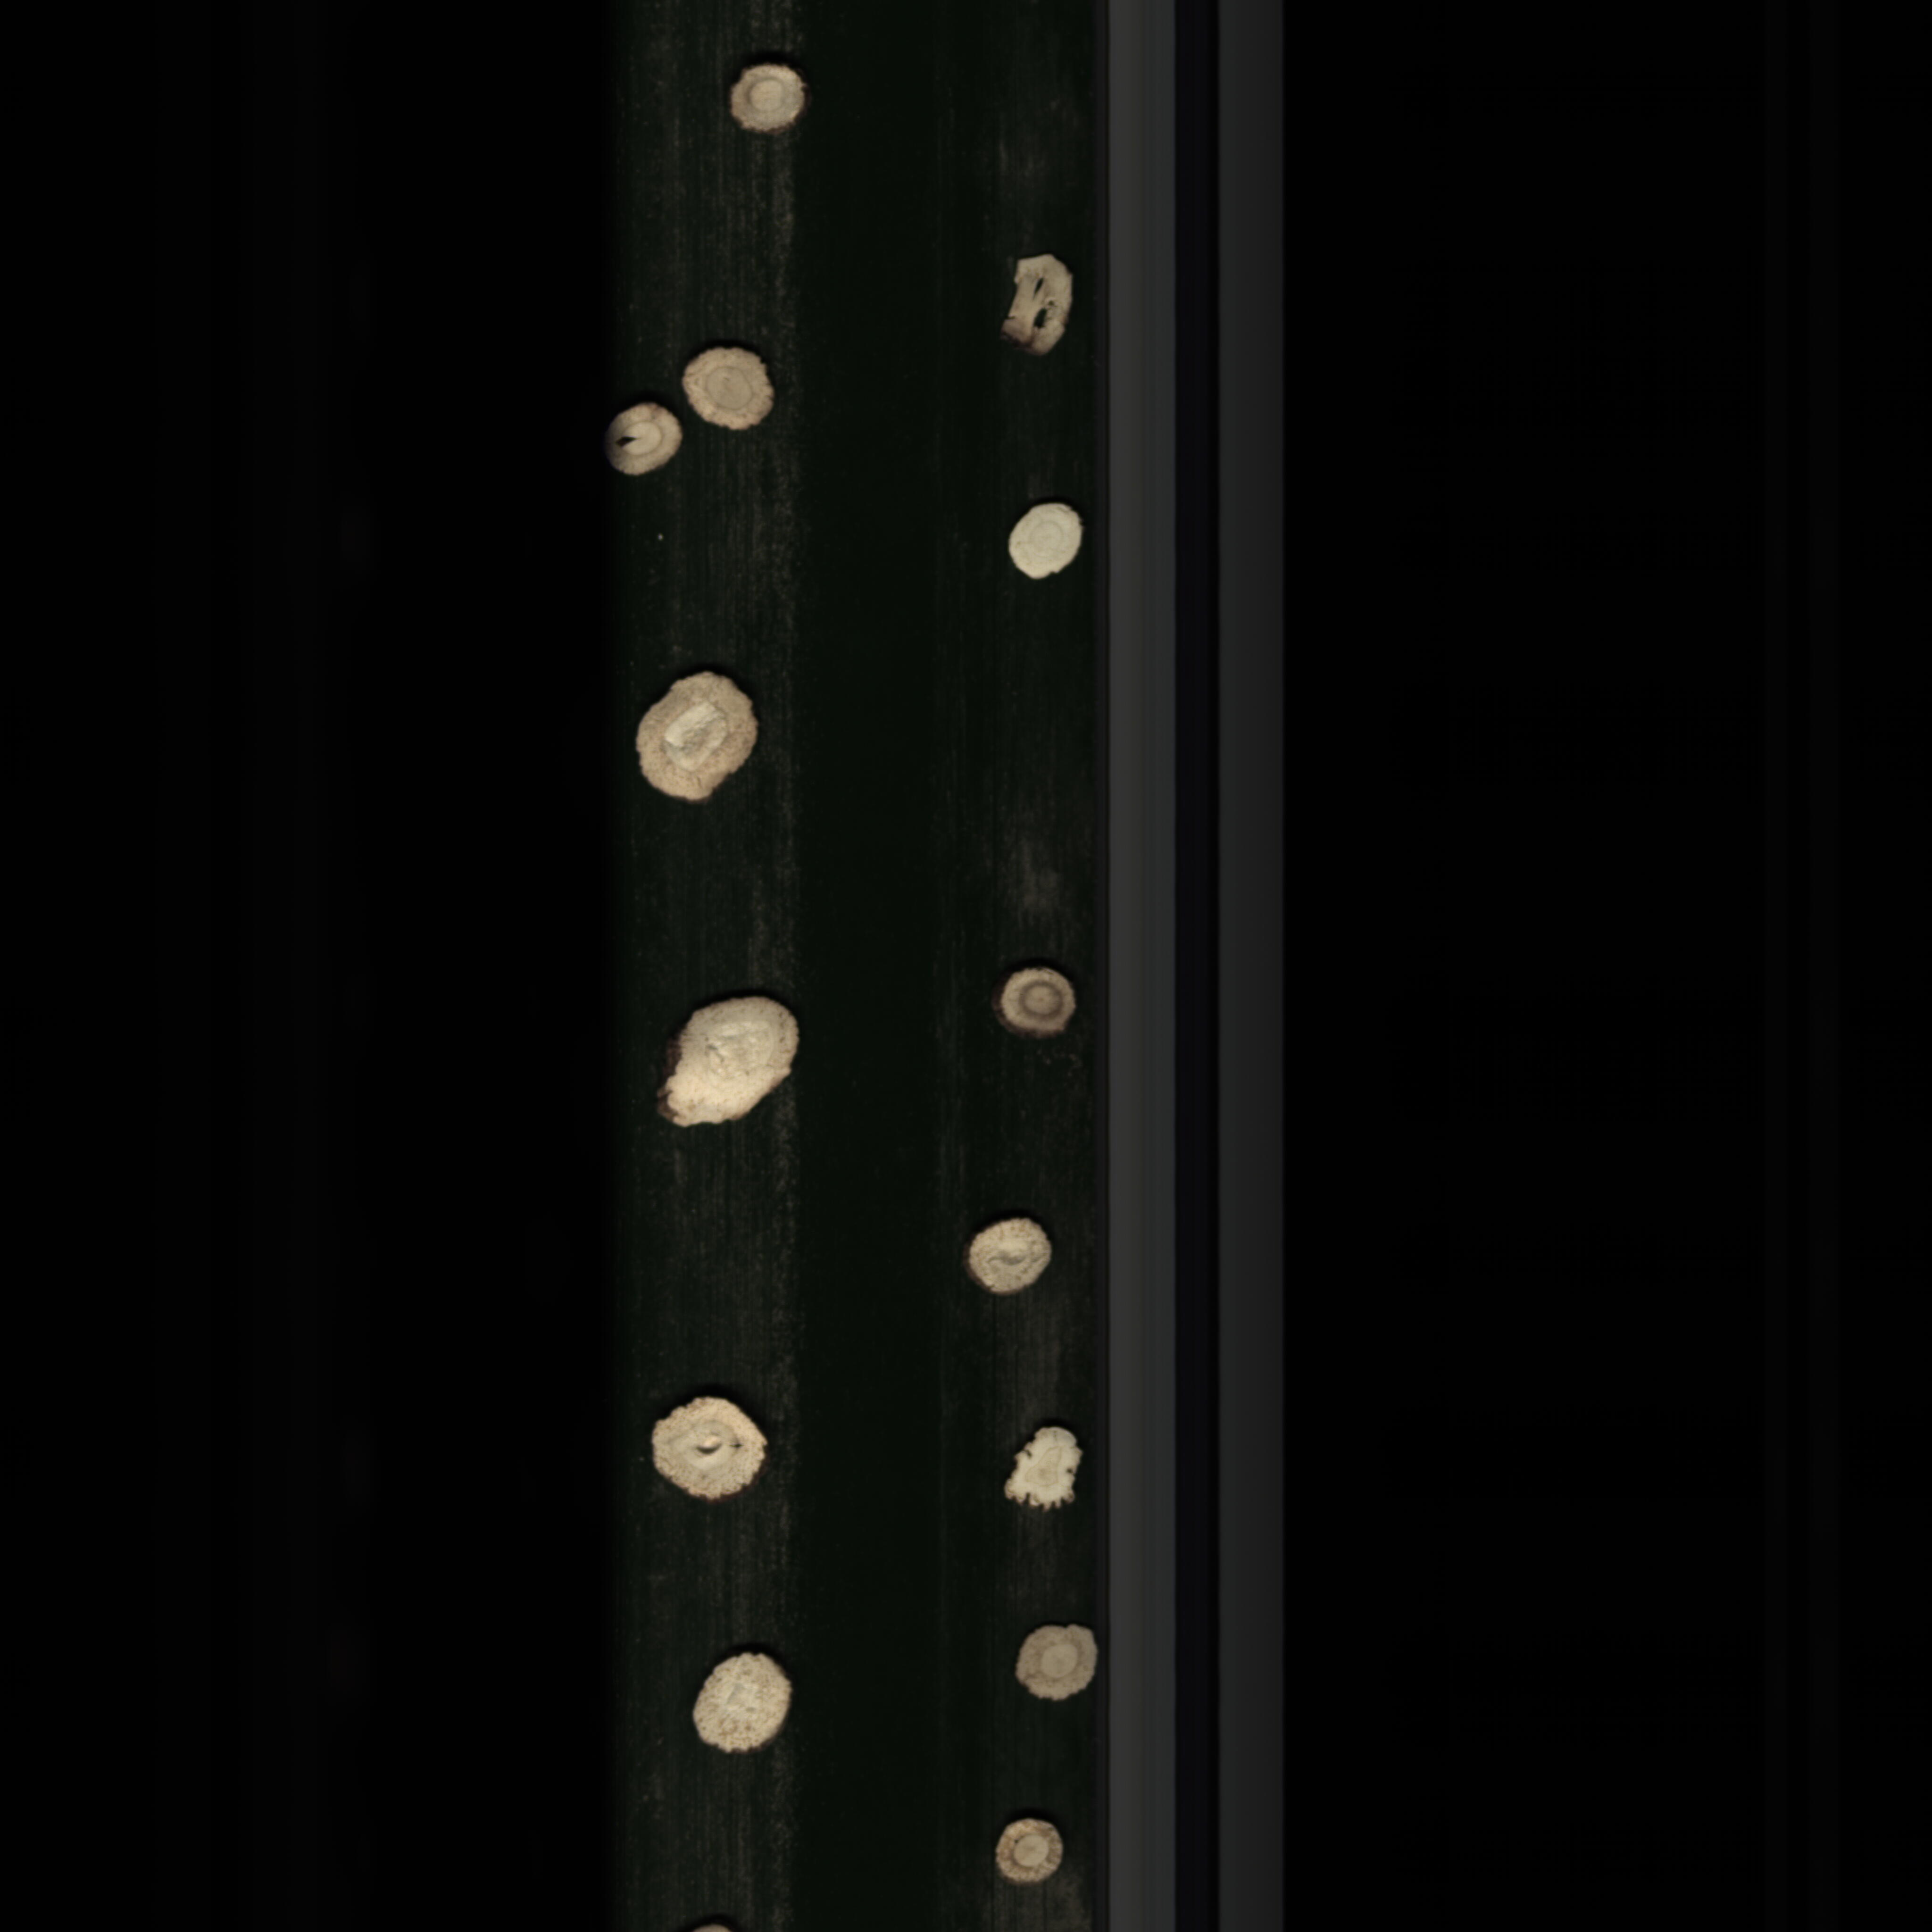distortion: (978, 1414, 1093, 1529)
hole: (637, 1385, 780, 1514), (594, 396, 690, 487), (1000, 248, 1072, 364)
moldy: (993, 962, 1085, 1042)
